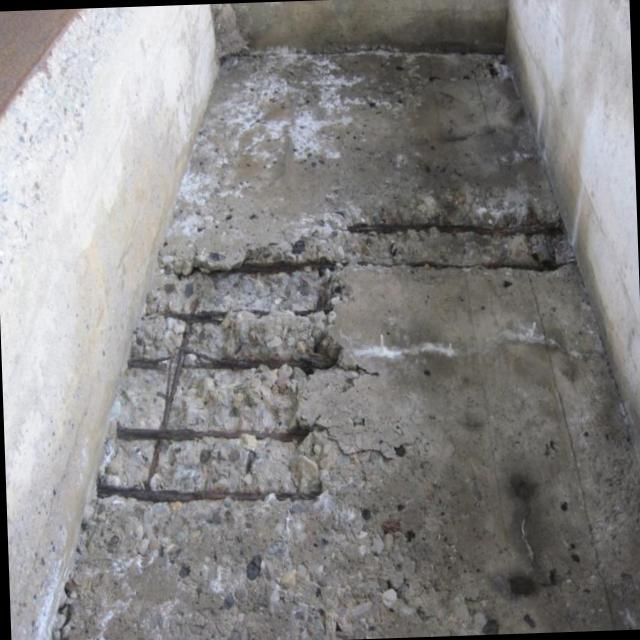spalling: (48, 163, 588, 640)
